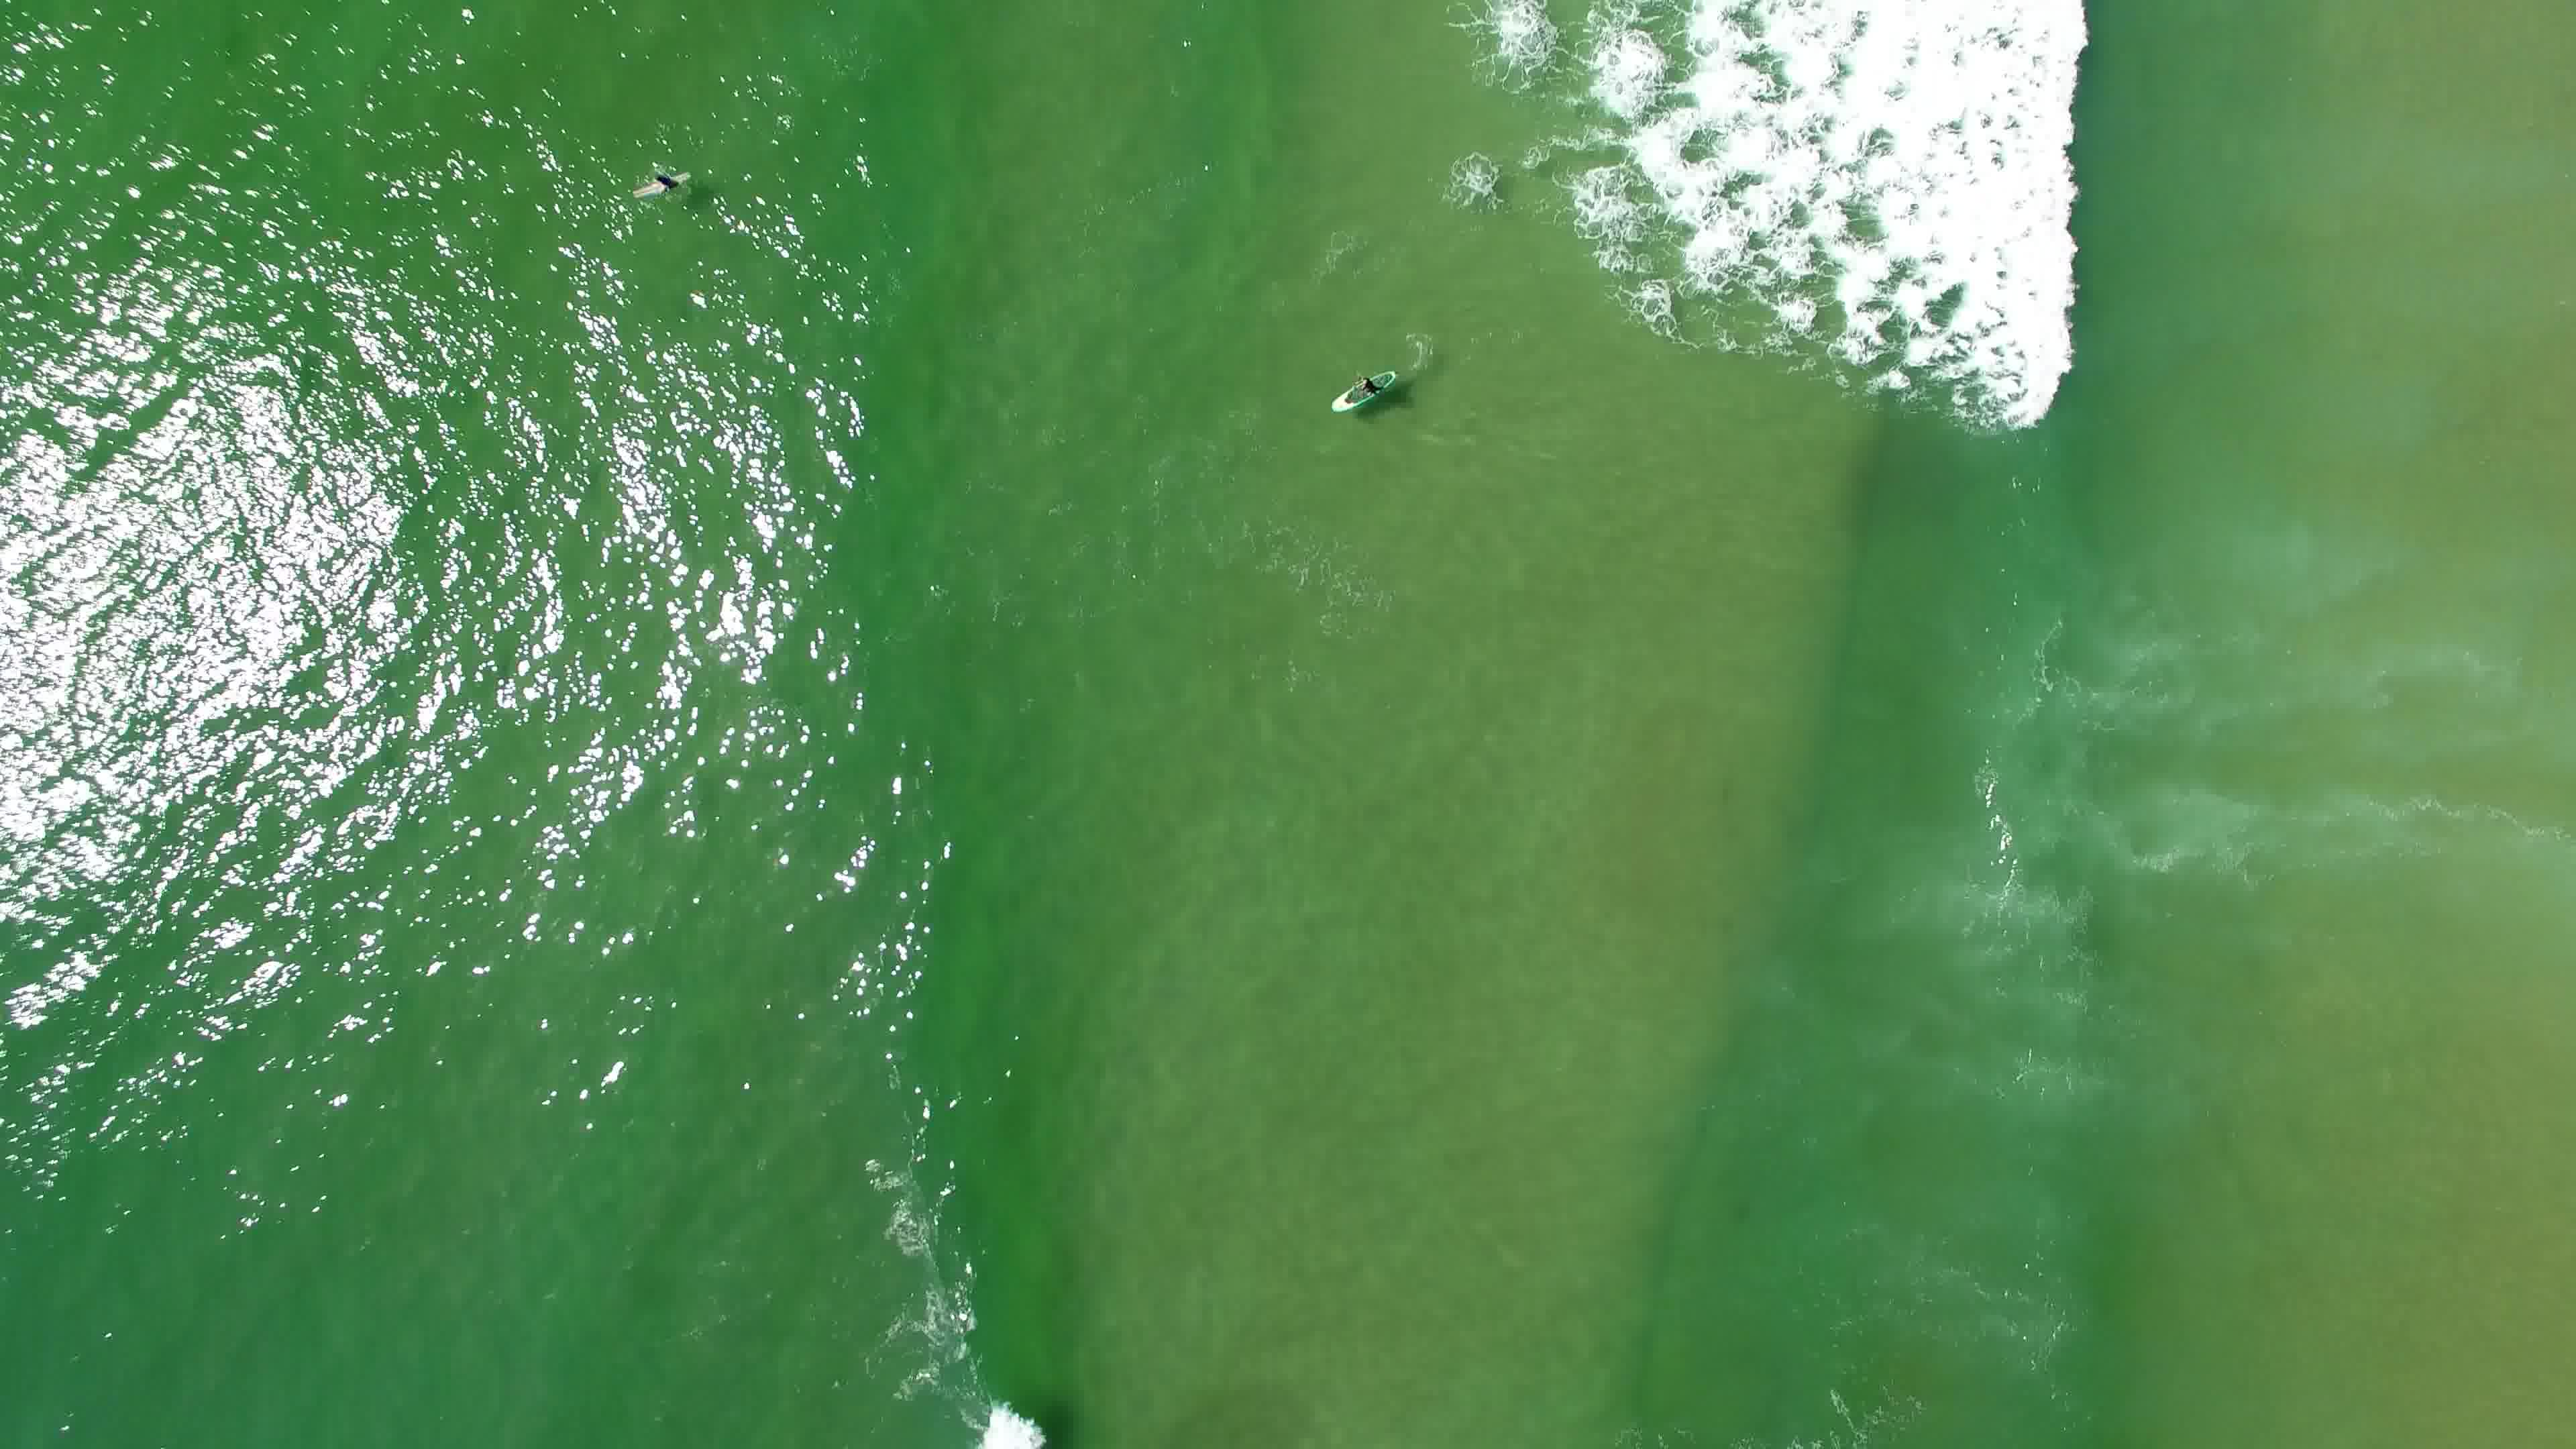surfer: (1330, 354, 1410, 423), (630, 147, 699, 207)
